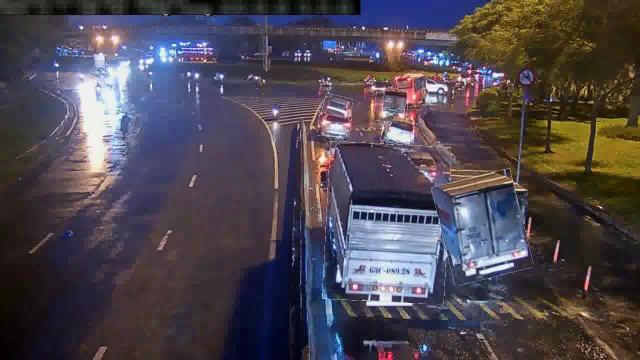Bike: (115, 109, 134, 142)
Bus: (398, 75, 428, 106)
Car: (318, 107, 352, 137), (382, 115, 414, 145), (323, 94, 353, 118)
Truck: (324, 143, 450, 303), (436, 172, 528, 282), (376, 90, 408, 122)
